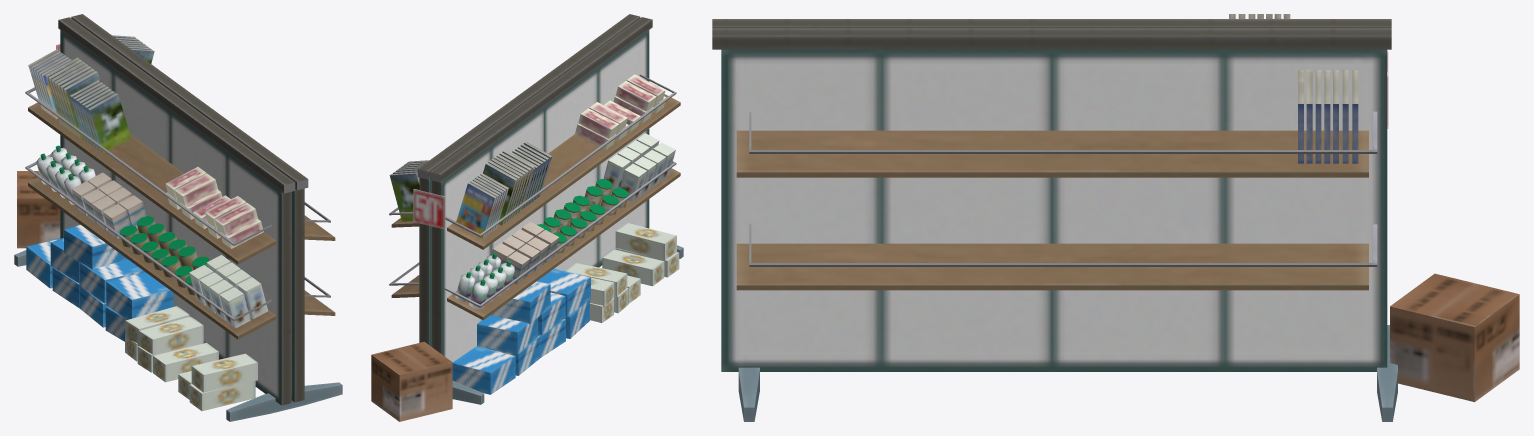
The model's file is shop_stand_2.FBX.
The picture shows the model from 3 angles, left to right: view 1: azimuth 30°, elevation 25°; view 2: azimuth 150°, elevation 25°; view 3: azimuth 270°, elevation 25°; orthographic projection. The views are drawn at different scales.
Parts seen in each view (by area): view 1: shop_stand_2; view 2: shop_stand_2; view 3: shop_stand_2.
Part boxes in pixels (left/top/right/bottom): shop_stand_2: left=14, top=14, right=342, bottom=421; shop_stand_2: left=371, top=14, right=683, bottom=421; shop_stand_2: left=712, top=14, right=1519, bottom=421.
Bounding box in the file's own units: 74.69 × 134 × 279.
Materials: 1 (1 with a texture image).
